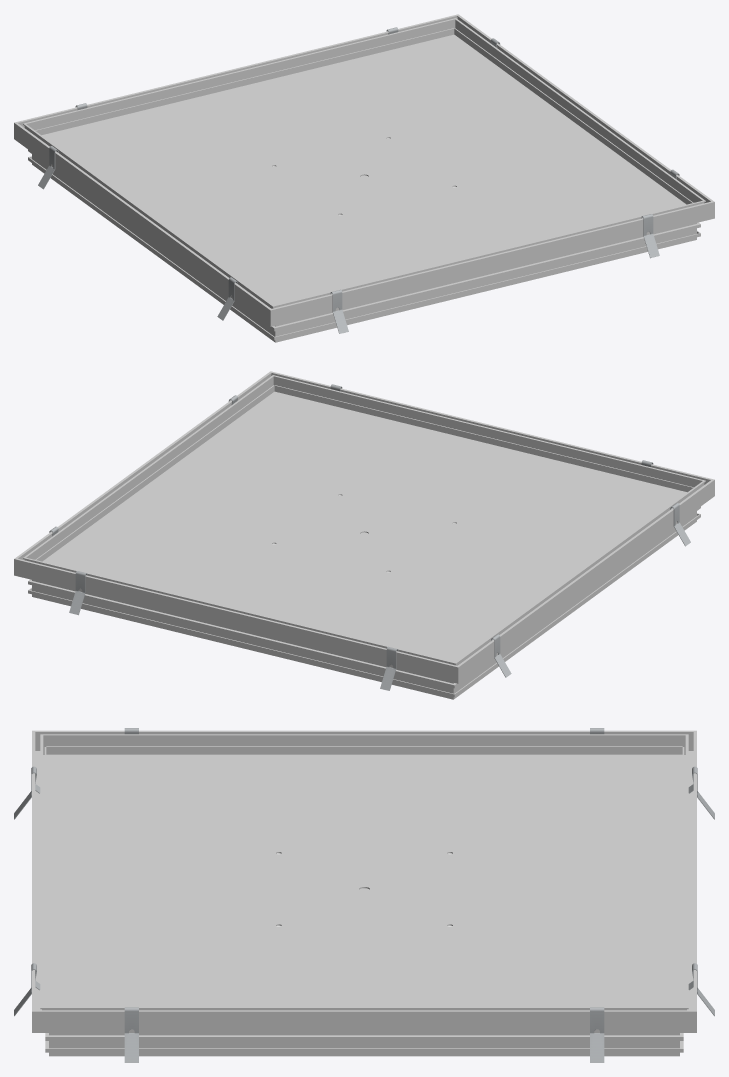
File: PiazzaEmbutido-no-frame.glb
The picture shows the model from 3 angles, top to bottom: view 1: azimuth 30°, elevation 25°; view 2: azimuth 150°, elevation 25°; view 3: azimuth 270°, elevation 25°; orthographic projection. The views are drawn at different scales.
Visible parts, largest first — view 1: 3DGeom-17, 3DGeom-2 (×4); view 2: 3DGeom-17, 3DGeom-2 (×4); view 3: 3DGeom-17, 3DGeom-2 (×4), 3DGeom-1 (×2).
Part boxes in pixels (x1,y1,x2,y2): 3DGeom-17: (35, 28, 693, 305); 3DGeom-2 (×4): (14, 14, 714, 342); 3DGeom-17: (35, 385, 693, 662); 3DGeom-2 (×4): (14, 371, 714, 699); 3DGeom-17: (44, 746, 684, 1006); 3DGeom-2 (×4): (32, 730, 696, 1056); 3DGeom-1 (×2): (124, 1007, 604, 1062).
Size of the model in its own units: 0.4911 by 0.0425 by 0.4911.
2 materials, 1 textured.
